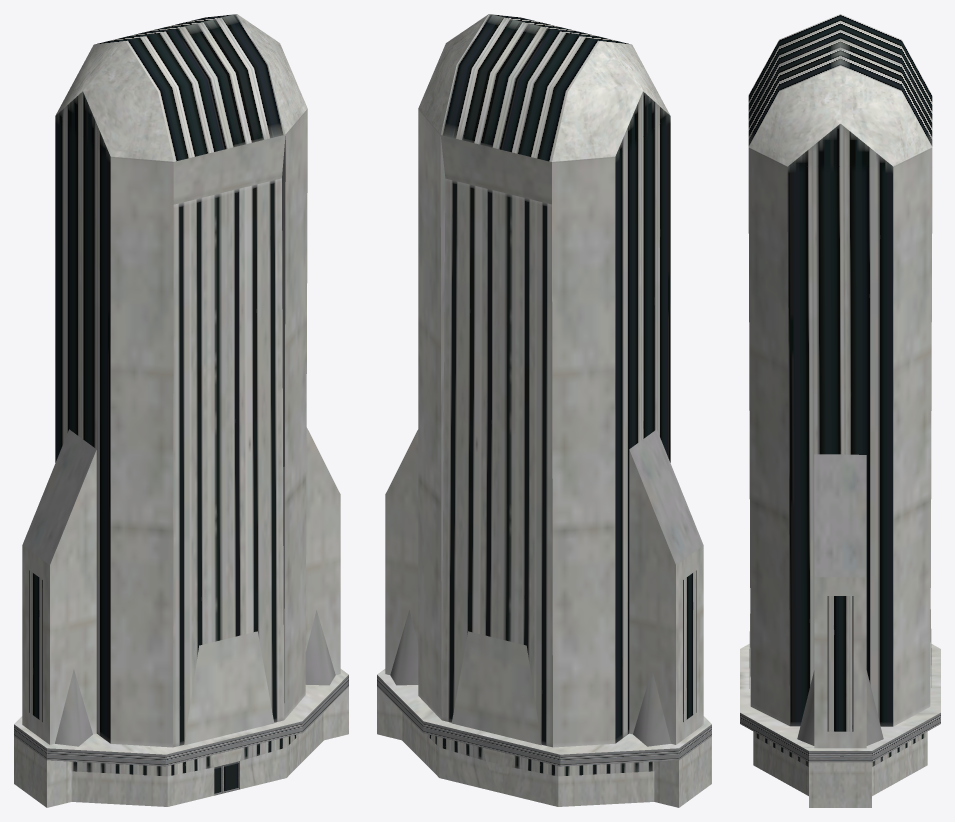
Rendered from thm_corl_skyskraper_s03_r0_mesh_l3.fbx.
3 renders of one model, left to right at view 1: azimuth 30°, elevation 25°; view 2: azimuth 150°, elevation 25°; view 3: azimuth 270°, elevation 25°, orthographic. The views are drawn at different scales.
Parts seen in each view (by area): view 1: mesh_node; view 2: mesh_node; view 3: mesh_node.
Boxes of the visible parts, x1=… form: mesh_node: x1=14, y1=14, x2=348, y2=807; mesh_node: x1=377, y1=14, x2=711, y2=807; mesh_node: x1=740, y1=14, x2=940, y2=807.
Bounding box in the file's own units: 60.95 × 141 × 36.8.
Materials: 1 (1 with a texture image).
